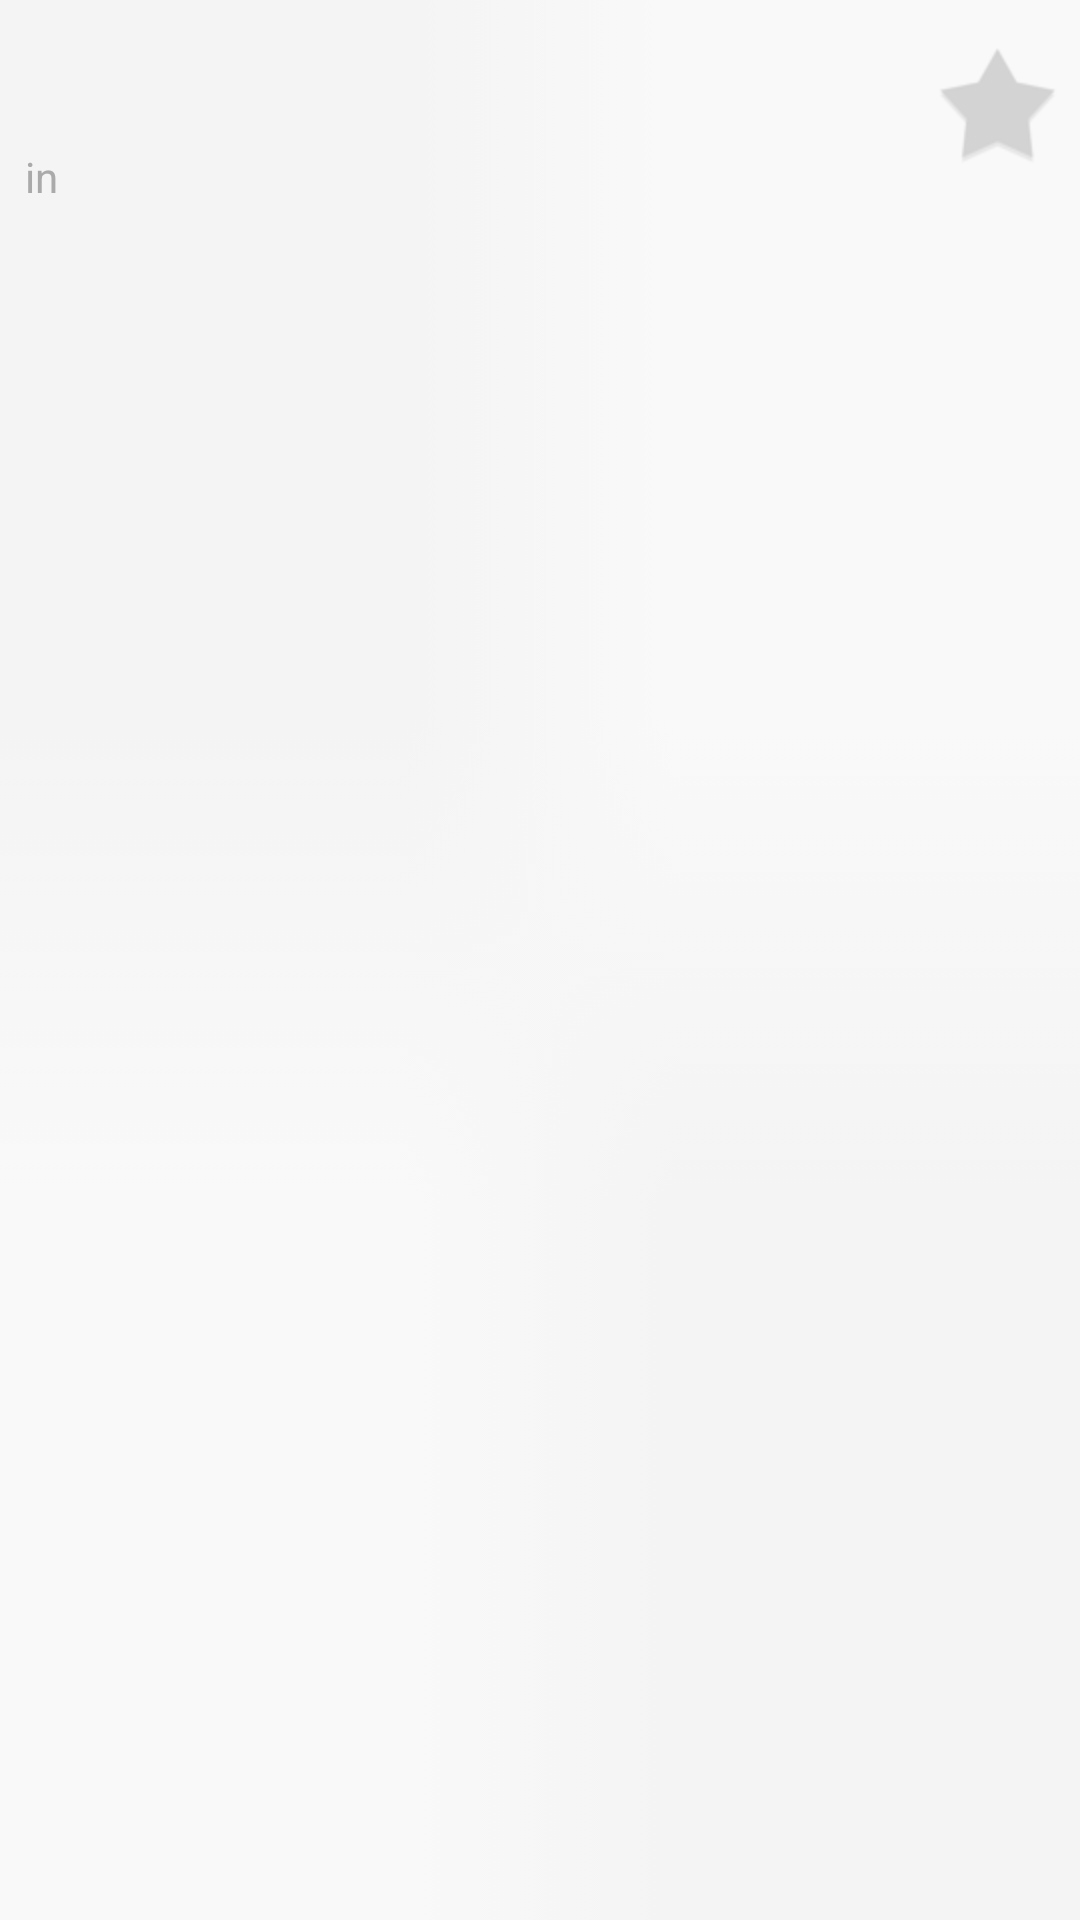

Screen size 1080x1920. Icon name, then its box in pixels as box(x1, y1, x2, y2):
star checkbox: box(942, 51, 1053, 157)
